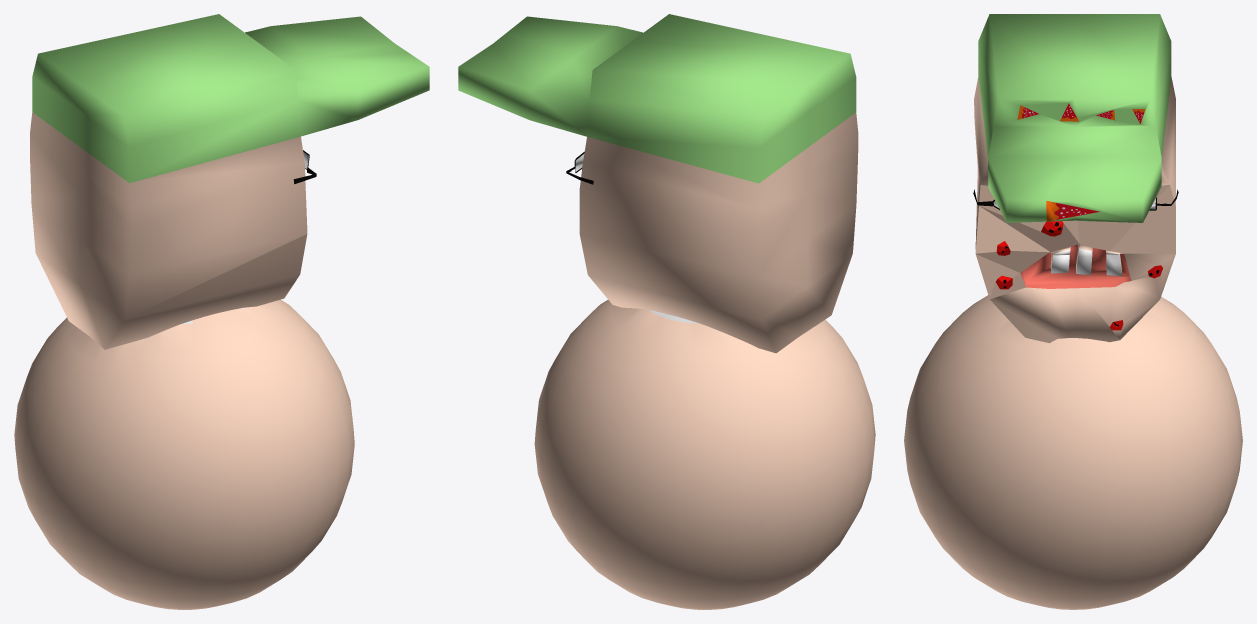
File: MyCharecterWithBodySmooth.fbx
The picture shows the model from 3 angles, left to right: view 1: azimuth 30°, elevation 25°; view 2: azimuth 150°, elevation 25°; view 3: azimuth 270°, elevation 25°; orthographic projection.
Visible parts, largest first — view 1: Sphere; view 2: Sphere; view 3: Sphere.
Boxes of the visible parts, bbox=[...] form: Sphere: bbox=[14, 14, 429, 609]; Sphere: bbox=[458, 14, 875, 609]; Sphere: bbox=[904, 14, 1242, 609].
Size of the model in its own units: 407 by 578 by 335.
